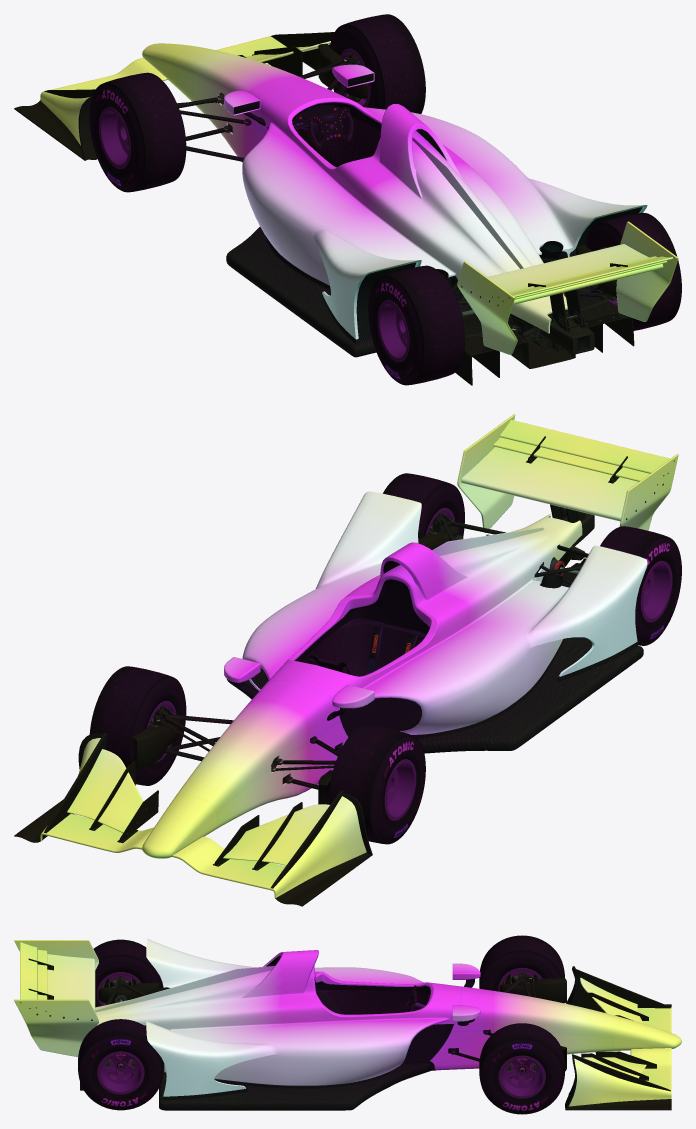
Rendered from openwheel2.glb.
3 views of the same model, one above another, from view 1: azimuth 30°, elevation 25°; view 2: azimuth 150°, elevation 25°; view 3: azimuth 270°, elevation 25° (orthographic). The views are drawn at different scales.
Parts seen in each view (by area): view 1: misc_b, misc_w, extra_11, wheel_lf, wheel_lr, misc_f, chassis, wheel_rf, extra_2, misc_h, extra_3, wheel_rr (+9 smaller); view 2: misc_b, misc_f, misc_w, chassis, misc_h, extra_2, extra_11, wheel_lf, wheel_rf, extra_3, wheel_lr, extra_7 (+8 smaller); view 3: misc_b, misc_f, misc_w, wheel_rf, wheel_rr, extra_11, extra_3, misc_h, chassis, wheel_lf, extra_8, wheel_lr (+7 smaller).
Part boxes in pixels (x1,y1,x2,y2): misc_b: (242,87,569,333); misc_w: (457,221,678,354); extra_11: (226,227,634,385); wheel_lf: (89,72,186,192); wheel_lr: (368,265,464,385); misc_f: (14,32,334,160); chassis: (177,60,605,354); wheel_rf: (330,14,425,113); extra_2: (310,226,421,344); misc_h: (174,47,326,134); extra_3: (524,176,647,253); wheel_rr: (586,212,681,330); misc_b: (242,513,582,734); misc_f: (14,733,372,906); misc_w: (457,414,678,532); chassis: (160,513,594,789); misc_h: (176,680,340,812); extra_2: (524,545,647,682); extra_11: (227,534,643,753); wheel_lf: (329,724,425,844); wheel_rf: (89,666,186,785); extra_3: (315,491,421,588); wheel_lr: (600,526,681,645); extra_7: (216,721,348,828); misc_b: (95,950,461,1085); misc_f: (565,966,671,1110); misc_w: (14,940,98,1056); wheel_rf: (479,1023,564,1114); wheel_rr: (78,1019,163,1110); extra_11: (80,1061,435,1110); extra_3: (146,1021,278,1100); misc_h: (451,986,619,1038); chassis: (107,978,535,1062); wheel_lf: (479,935,564,991); extra_8: (430,1031,613,1070); wheel_lr: (93,939,163,1007).
Bounding box in the file's own units: 1.94 × 0.9579 × 5.13.
20 materials, 20 textured.
